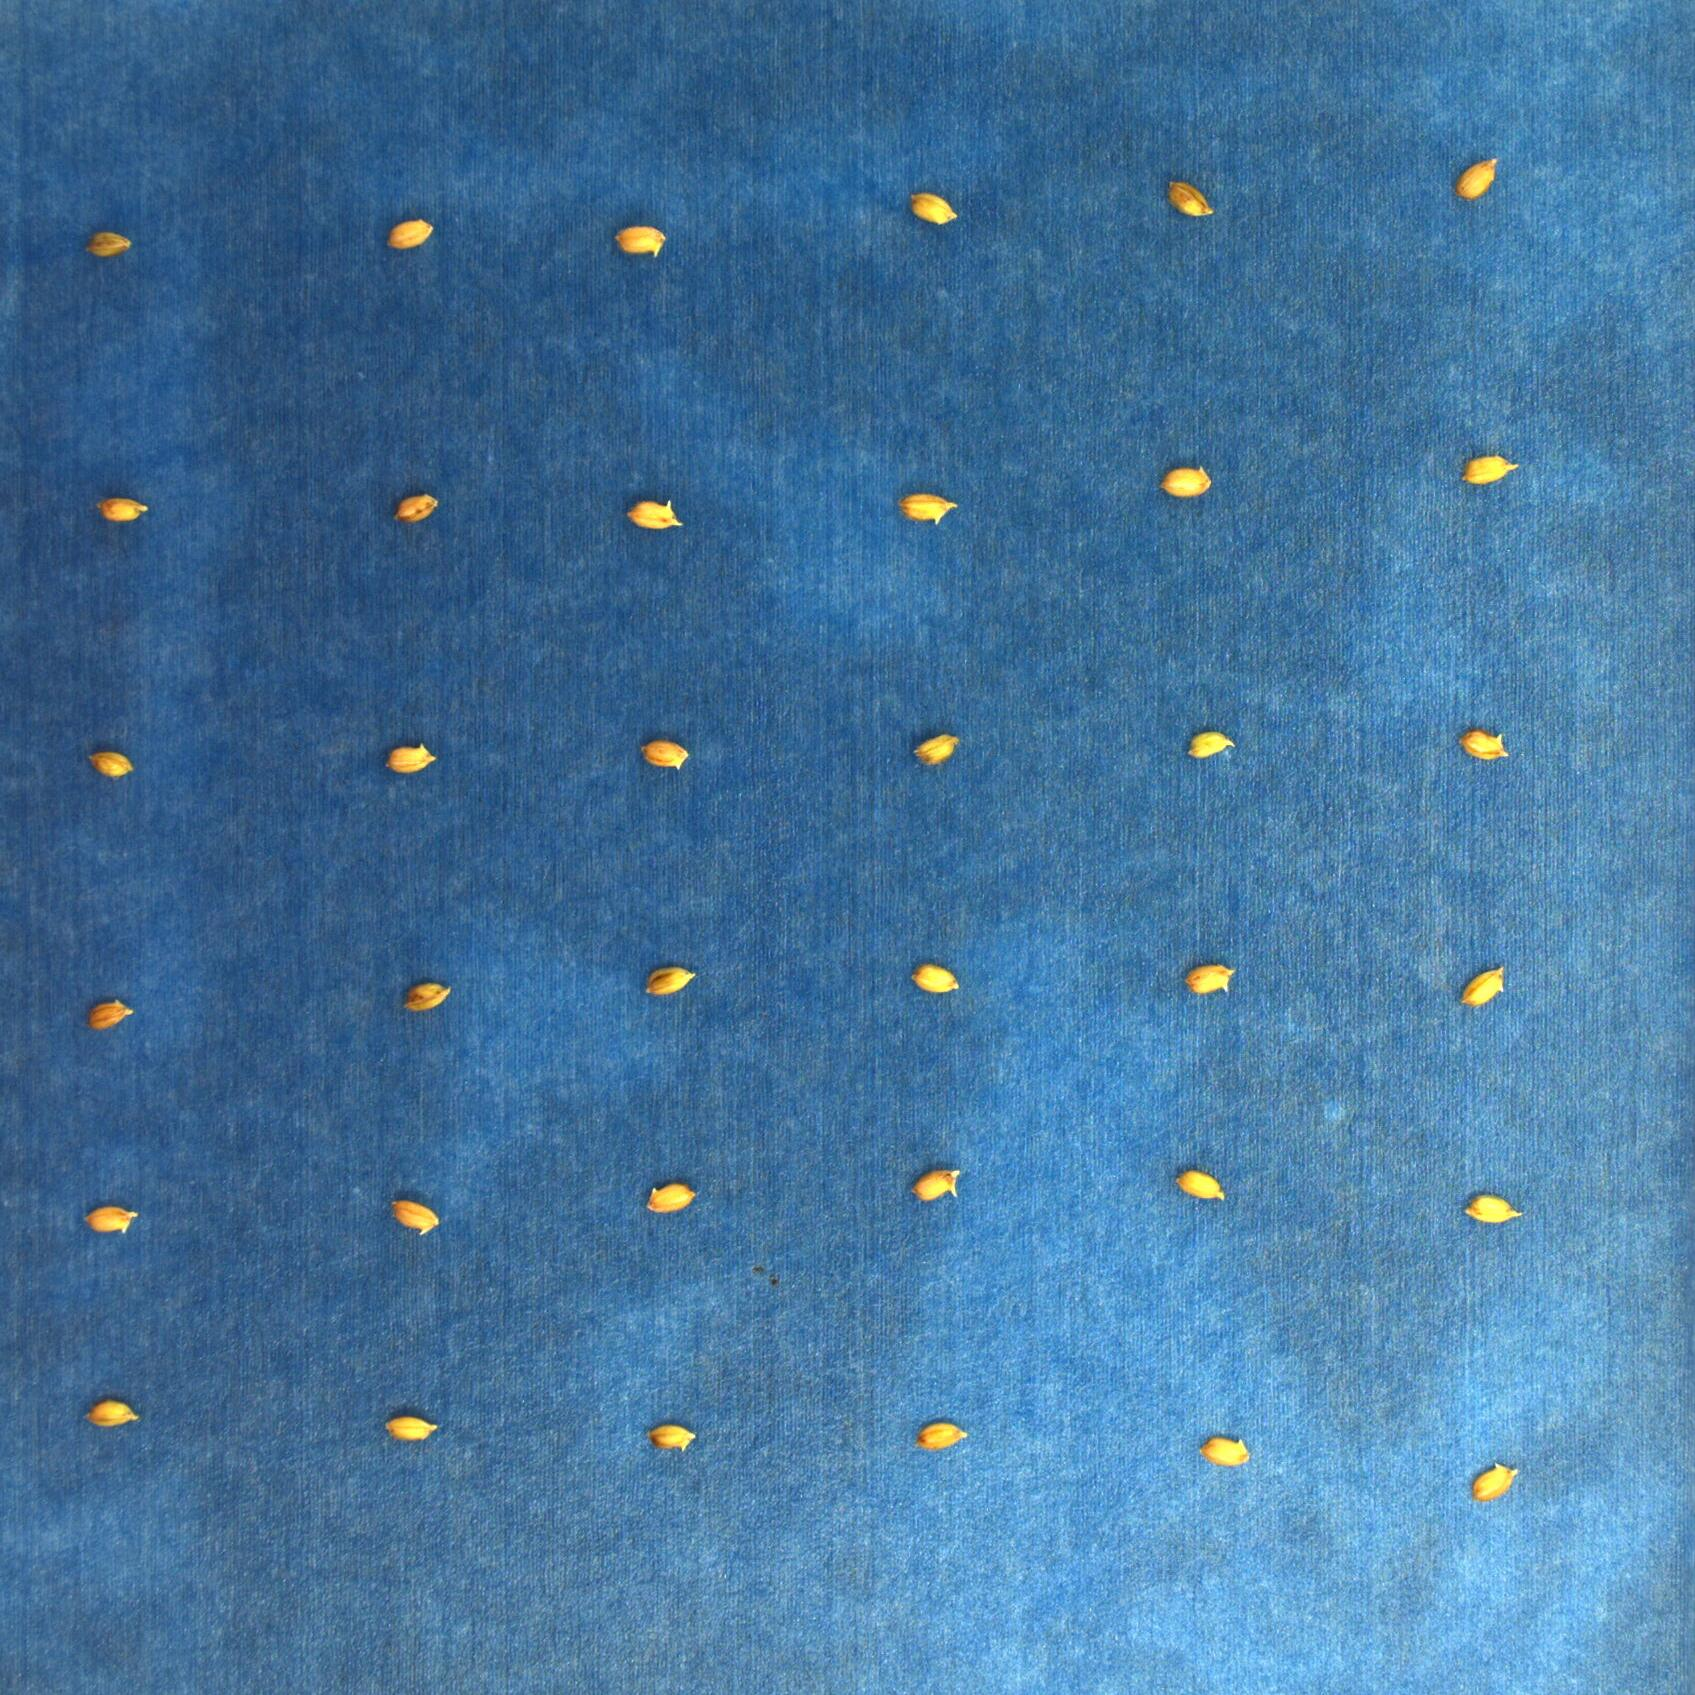not sprout: (1447, 445, 1527, 509), (646, 1391, 730, 1444), (1461, 1175, 1527, 1239), (1458, 951, 1516, 1021), (902, 1156, 973, 1214), (619, 486, 702, 536), (893, 478, 973, 528), (640, 1167, 711, 1223), (1454, 151, 1523, 206), (1461, 1451, 1526, 1506), (379, 227, 442, 281), (81, 986, 135, 1048), (900, 185, 958, 242), (382, 730, 439, 787), (383, 1399, 439, 1458), (897, 723, 962, 771), (81, 744, 144, 792), (633, 961, 698, 1007), (385, 1194, 445, 1243), (1159, 453, 1220, 503), (1454, 722, 1520, 765), (73, 1205, 140, 1246), (1201, 1433, 1260, 1479), (75, 1399, 140, 1440), (911, 951, 964, 1001), (1170, 1161, 1226, 1208), (635, 730, 689, 775), (919, 1417, 976, 1459), (1158, 180, 1209, 225), (1180, 722, 1236, 762), (613, 220, 666, 262), (397, 976, 442, 1023), (81, 227, 130, 269), (96, 490, 144, 529), (393, 487, 438, 528), (1184, 961, 1232, 998)
